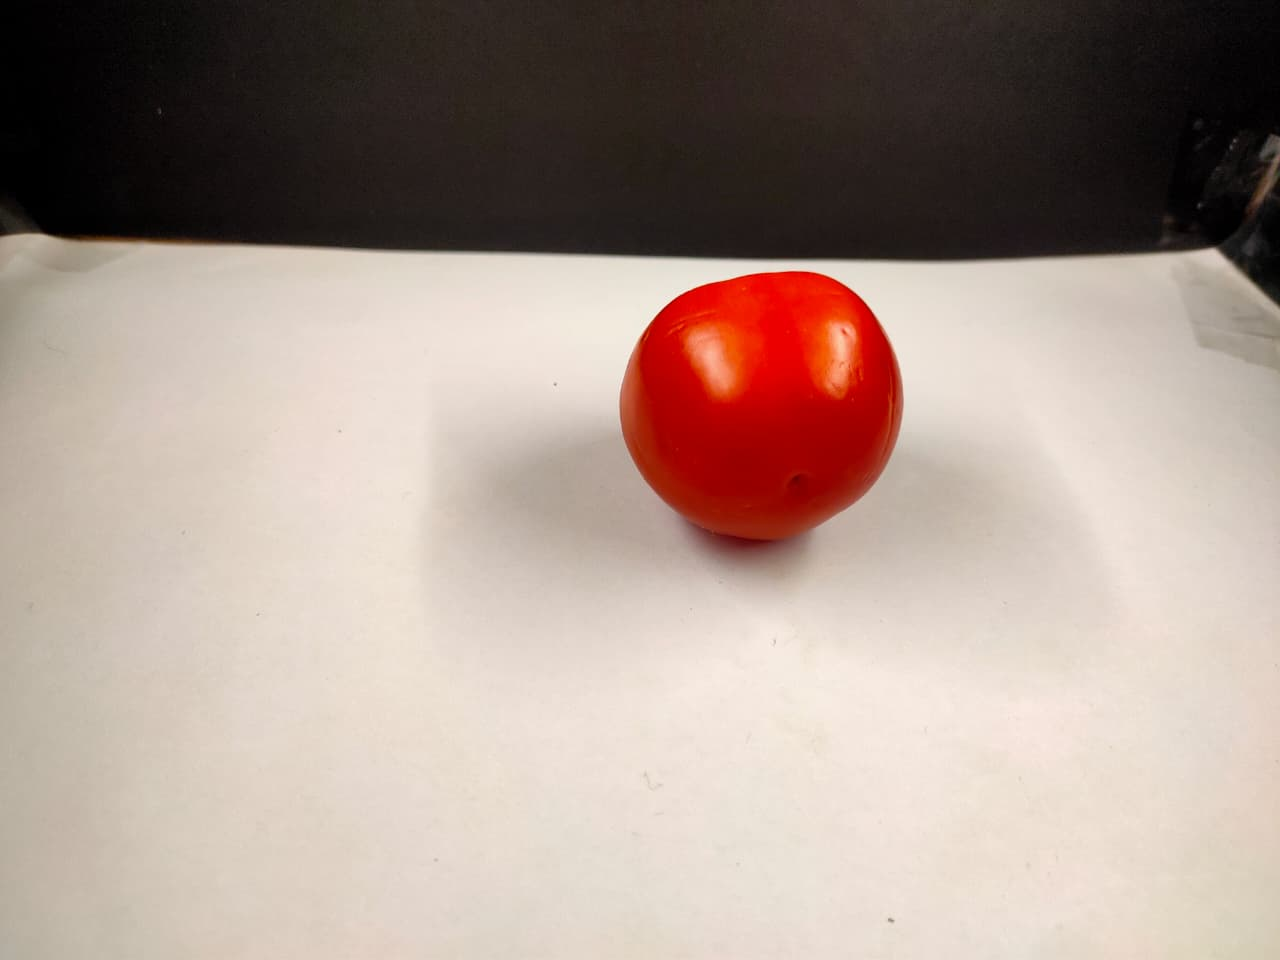ripe: (610, 257, 914, 557)
